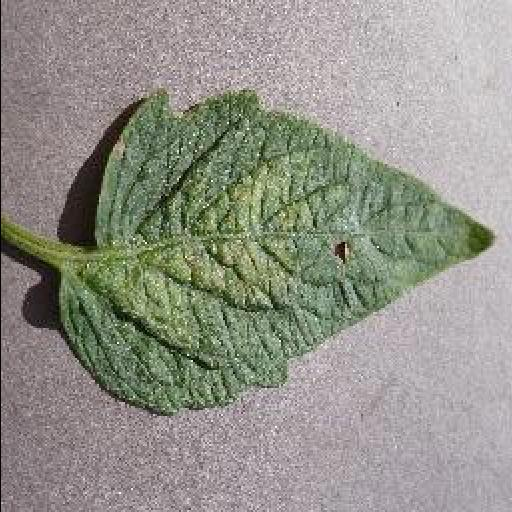disease_tomato: (57, 84, 499, 416)
